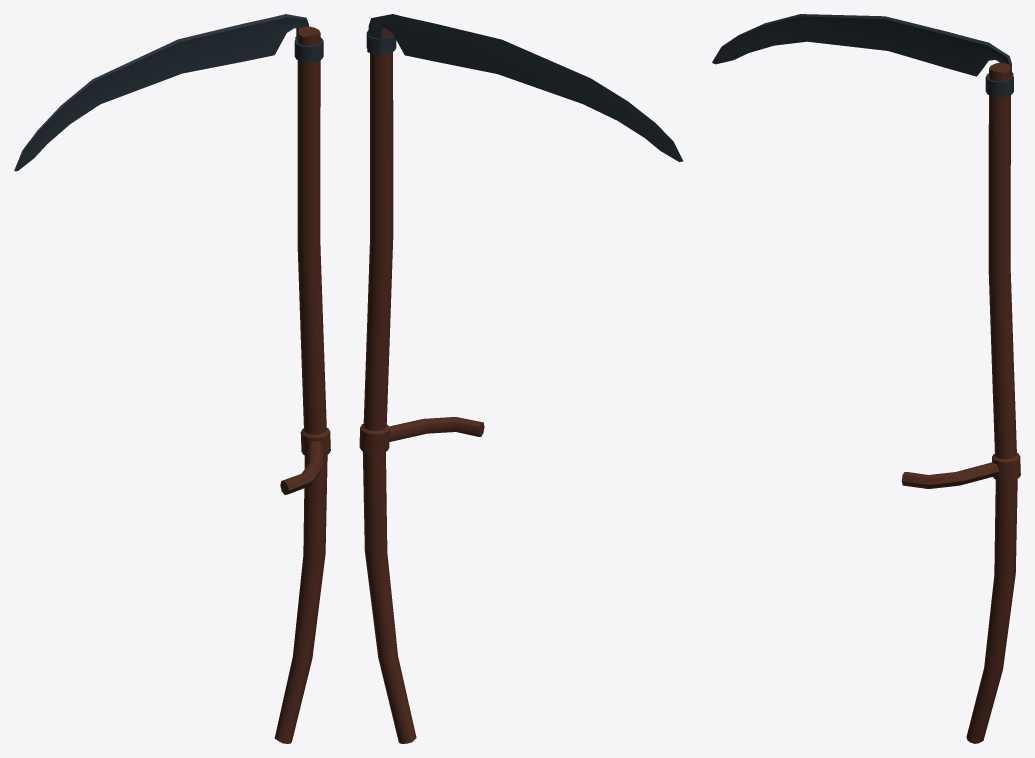
File: scythe.fbx
3 renders of one model, left to right at view 1: azimuth 30°, elevation 25°; view 2: azimuth 150°, elevation 25°; view 3: azimuth 330°, elevation 25°, orthographic. The views are drawn at different scales.
Visible parts, largest first — view 1: scythe; view 2: scythe; view 3: scythe.
Part boxes in pixels (x1,y1,x2,y2): scythe: [14, 14, 330, 743]; scythe: [359, 14, 683, 743]; scythe: [712, 14, 1020, 743].
Bounding box in the file's own units: 79.88 × 174 × 21.58.
